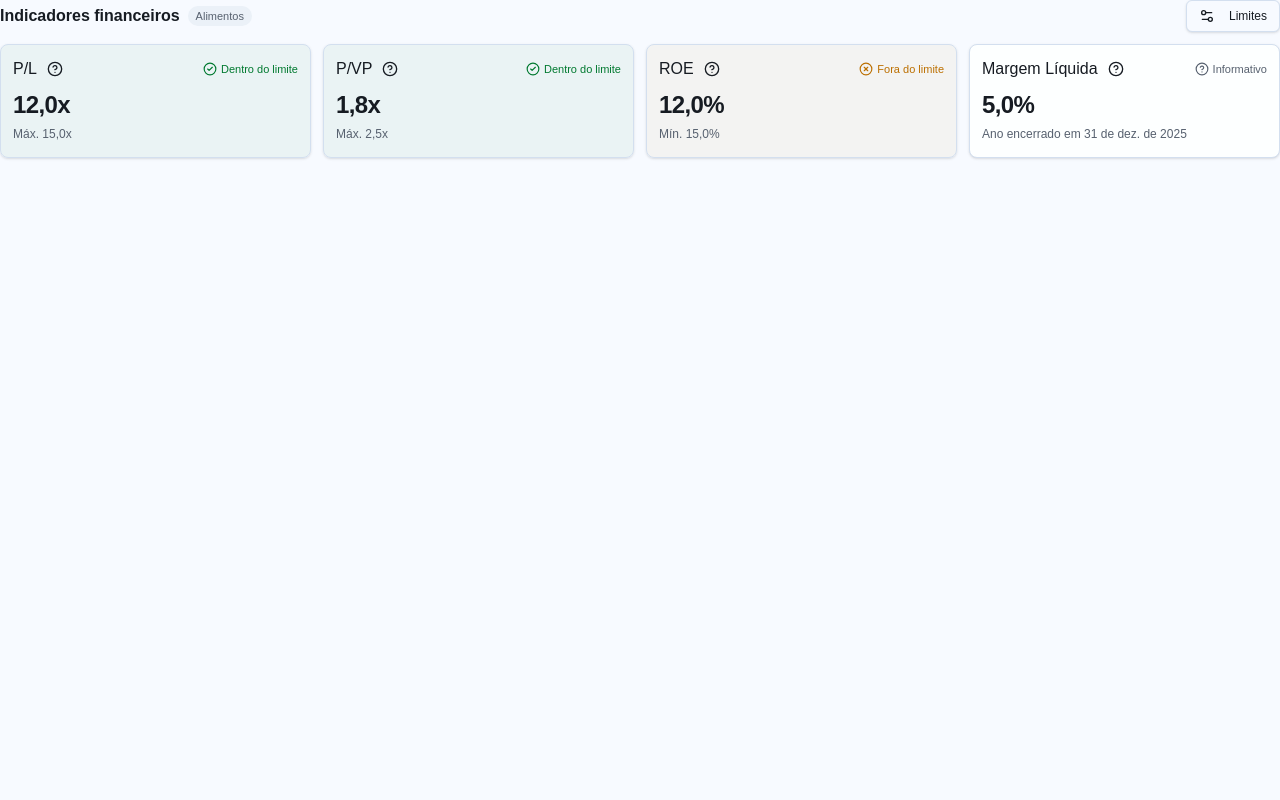
Test: StockCriteriaSummary › applies the Conservador preset including its P/VP reference
The image size is (1280, 800).
Click the button "Limites". click: click(1233, 16)
box: [1186,0,1279,32]
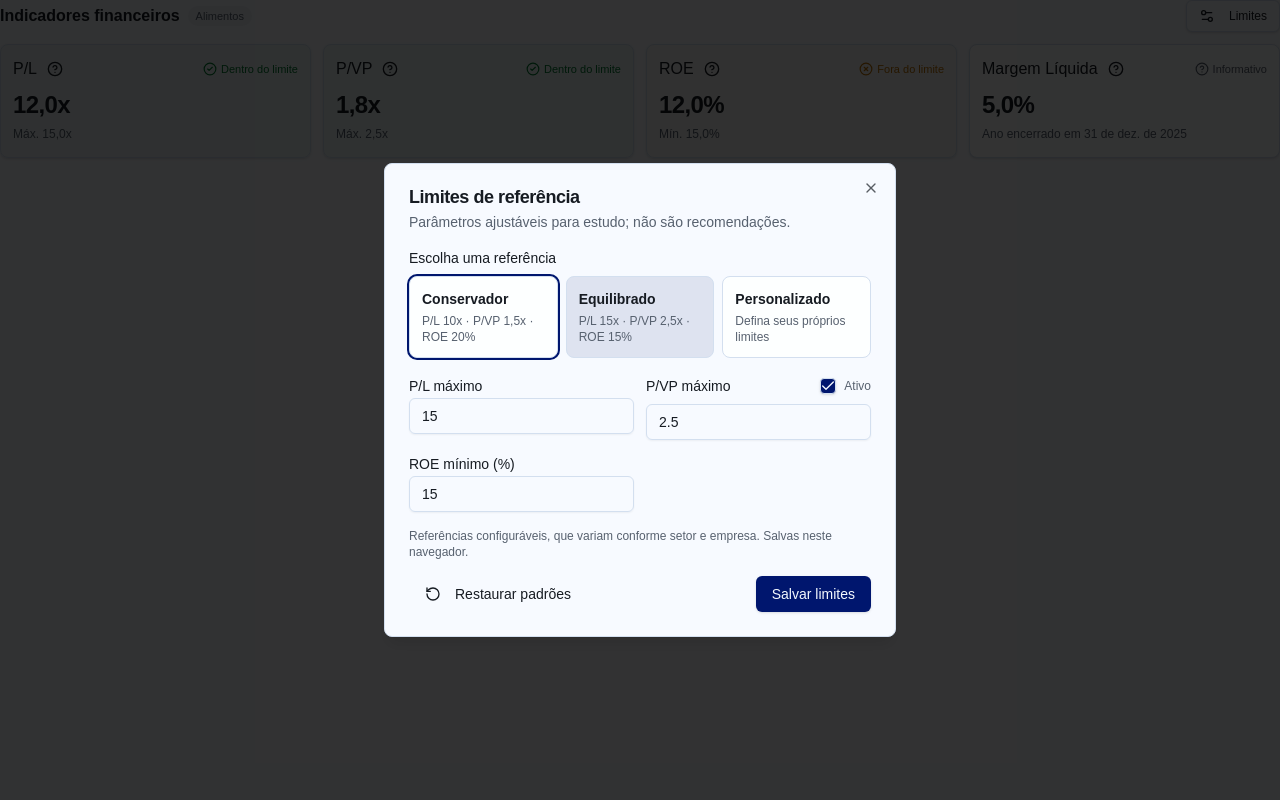
Click the button "Conservador P/L 10x · P/VP 1,5x · ROE 20%". click: click(483, 317)
box: [409,276,558,358]
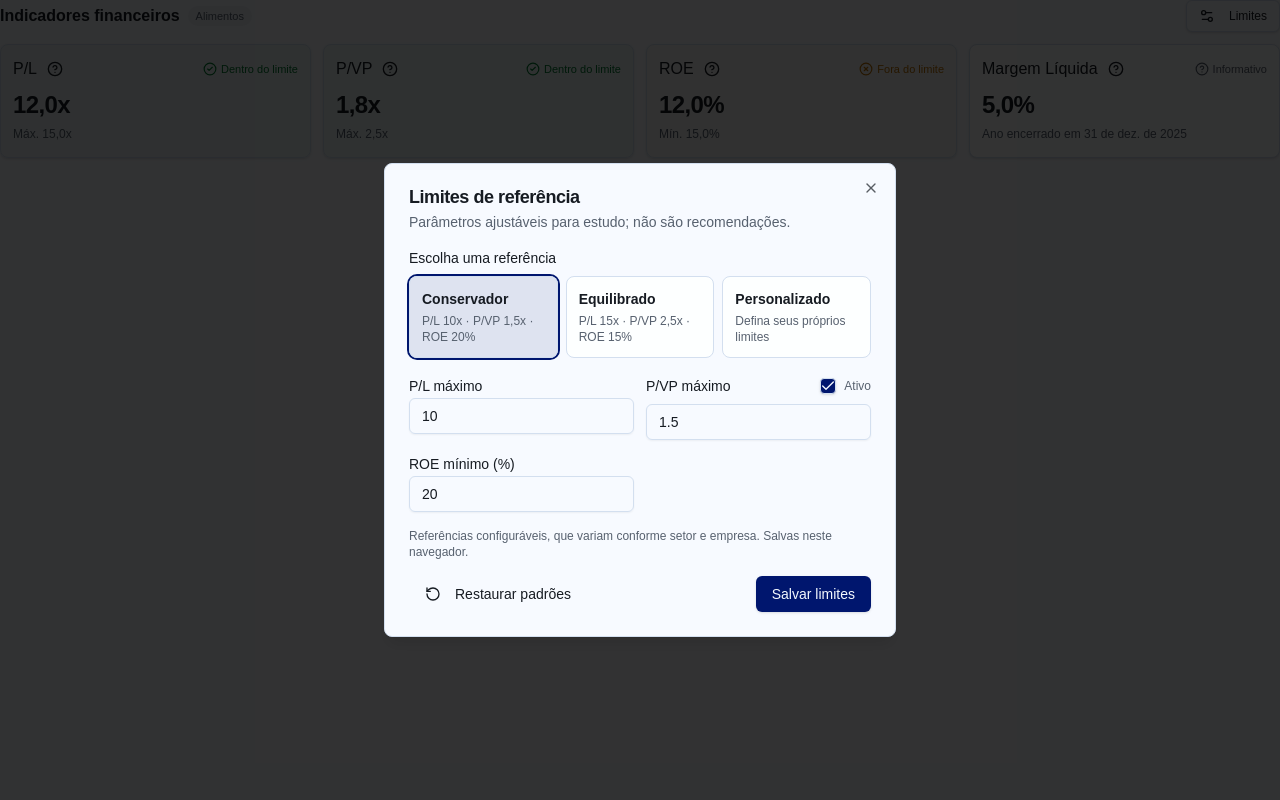
Expected: the number field labelled "P/L máximo" holds "10", [409,398,634,434]
Expected: the number field labelled "P/VP máximo" holds "1.5", [646,404,871,440]
Expected: the number field labelled "ROE mínimo (%)" holds "20", [409,476,634,512]
